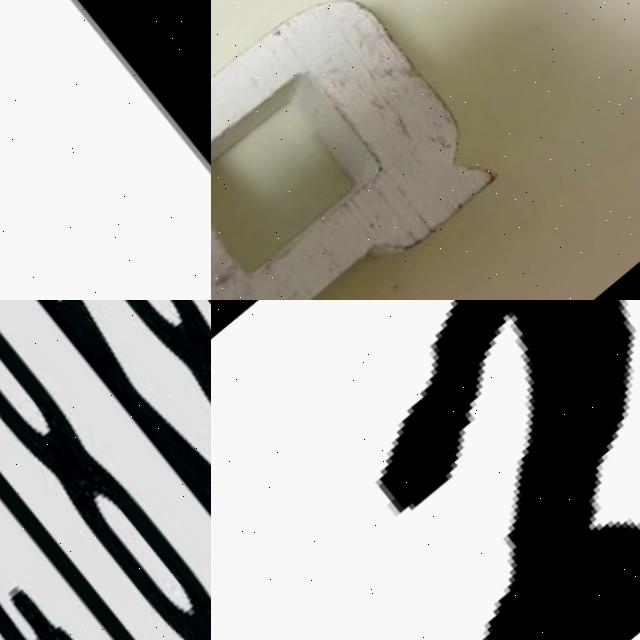1: (0, 0, 211, 300)
2: (211, 300, 640, 640)
4: (0, 327, 173, 640), (0, 408, 73, 640)
8: (0, 300, 211, 640), (9, 300, 211, 589)
K: (0, 300, 211, 639)
Q: (211, 0, 507, 300)
T: (0, 300, 211, 640)
